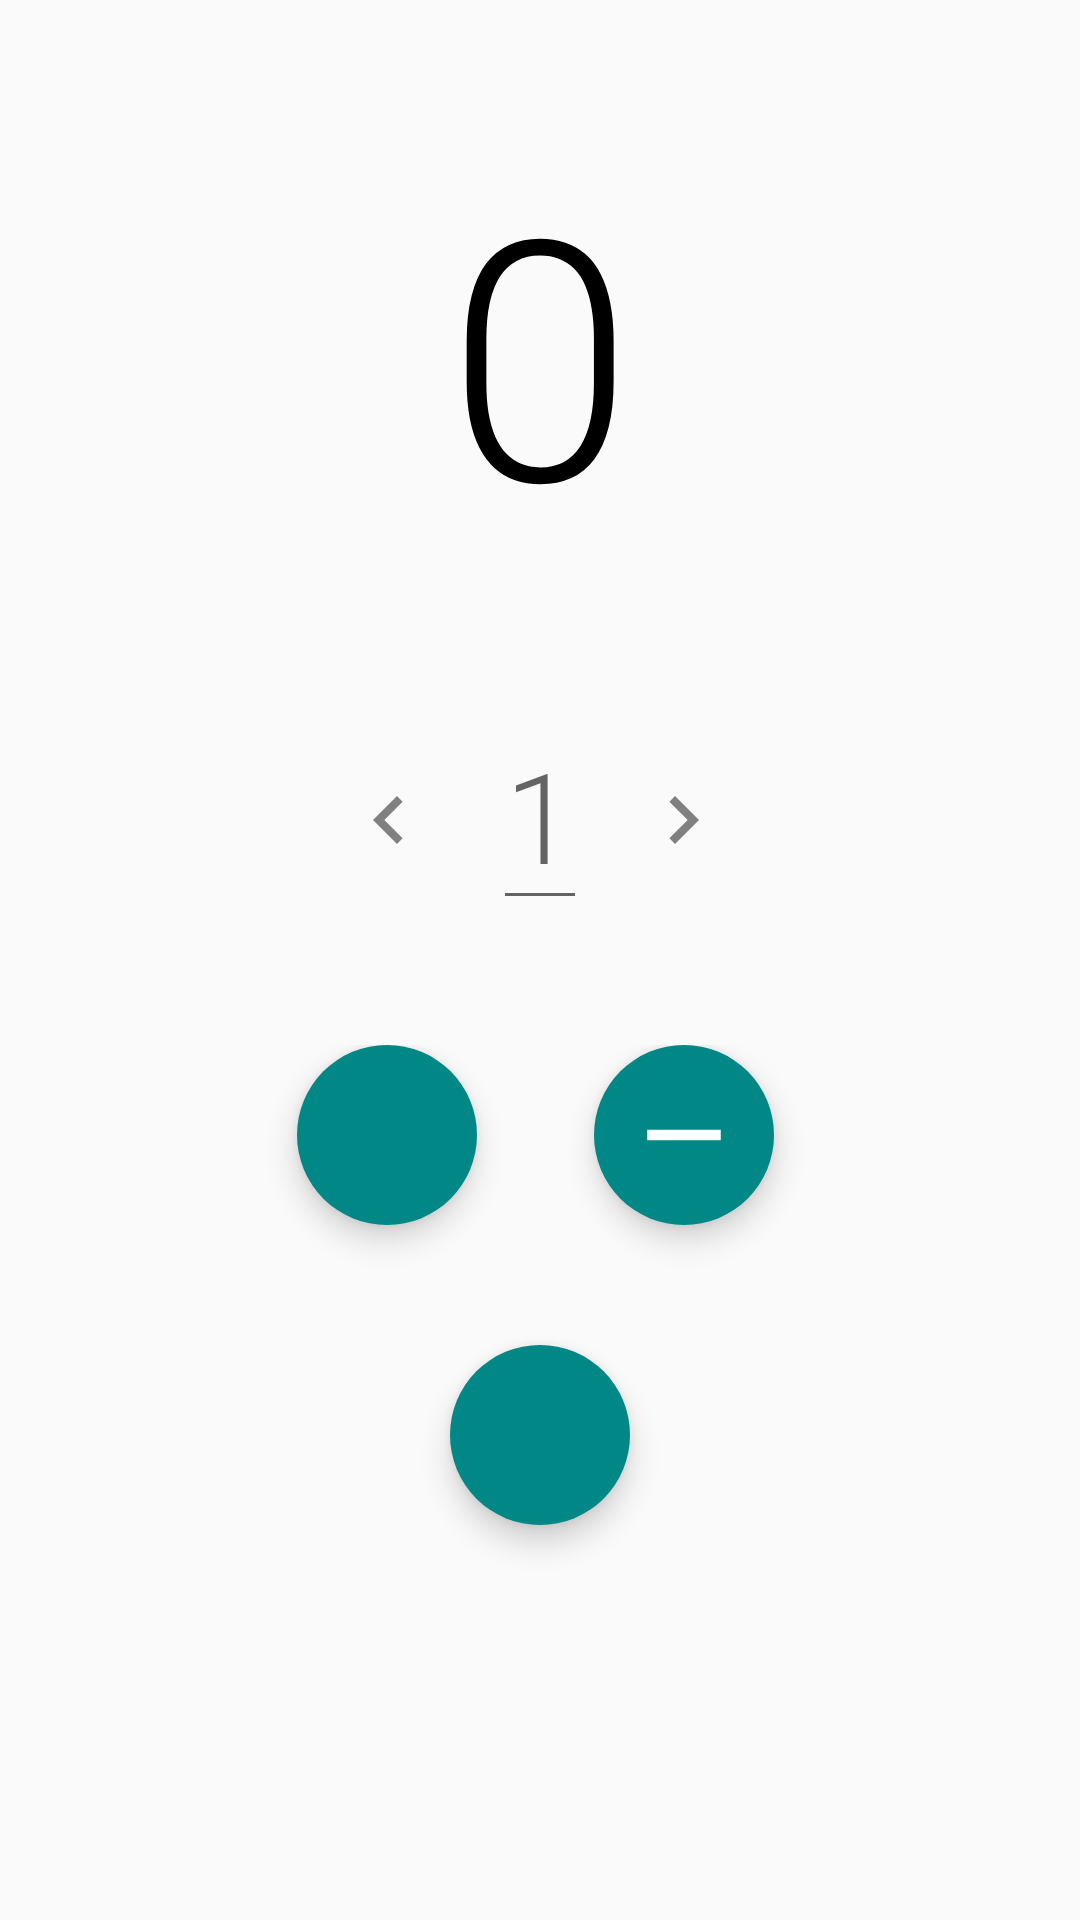

Icons on this 1080 × 1920 Android screen, each with its box as (x1, y1, x2, y2):
keyboard arrow left: (373, 796, 403, 844)
keyboard arrow right: (669, 796, 699, 844)
remove: (594, 1045, 774, 1225)
